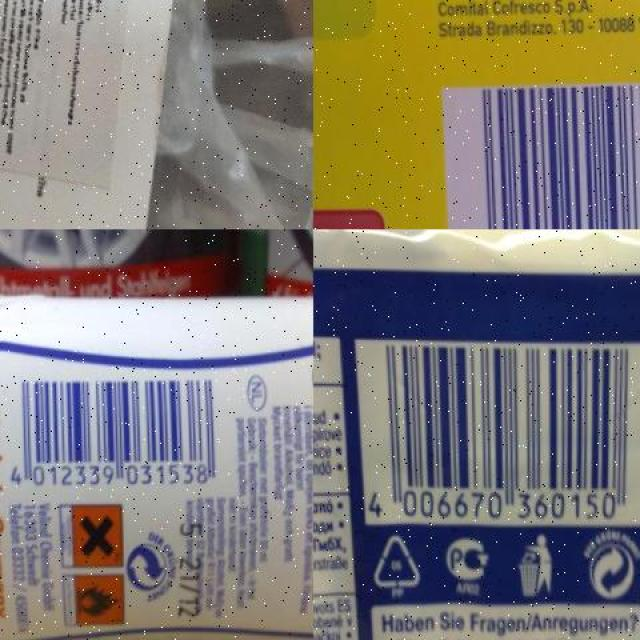Barcode: (352, 338, 640, 526), (437, 74, 640, 230), (3, 365, 228, 495)
